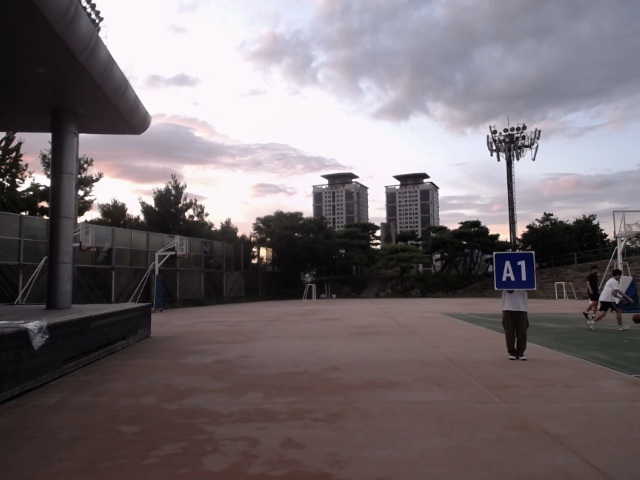delivery_a1: (493, 251, 536, 290)
